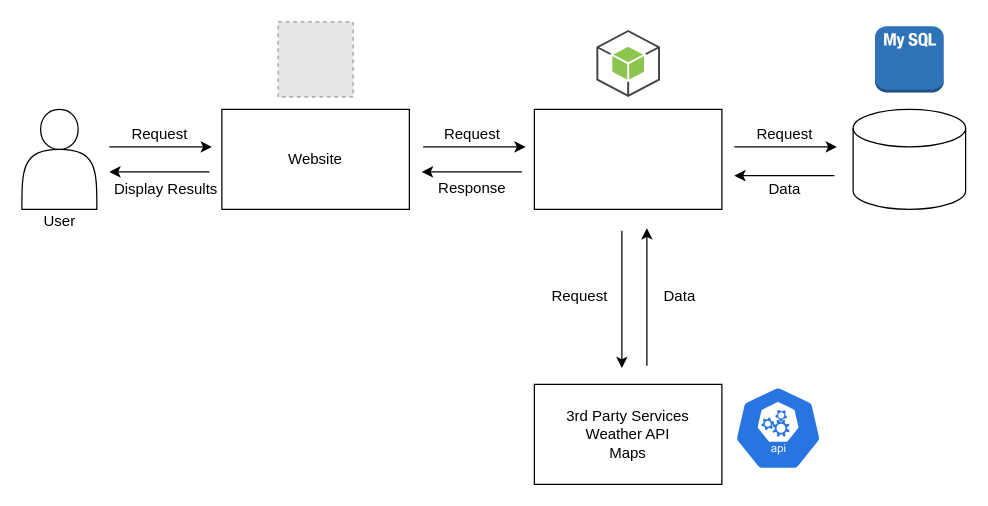
Some shapes in this 988 by 506 pixel diagram are drawn without their labels. Grey dashed boxes stand in for pictures. Here are the shapes that lost their labels. From the top down, the centre of each, then its label:
At point 627,158: "Server (Logic)".
At point 909,158: "Database".
